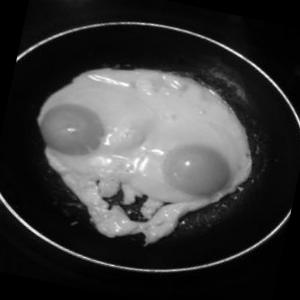omelet: (21, 42, 270, 264)
